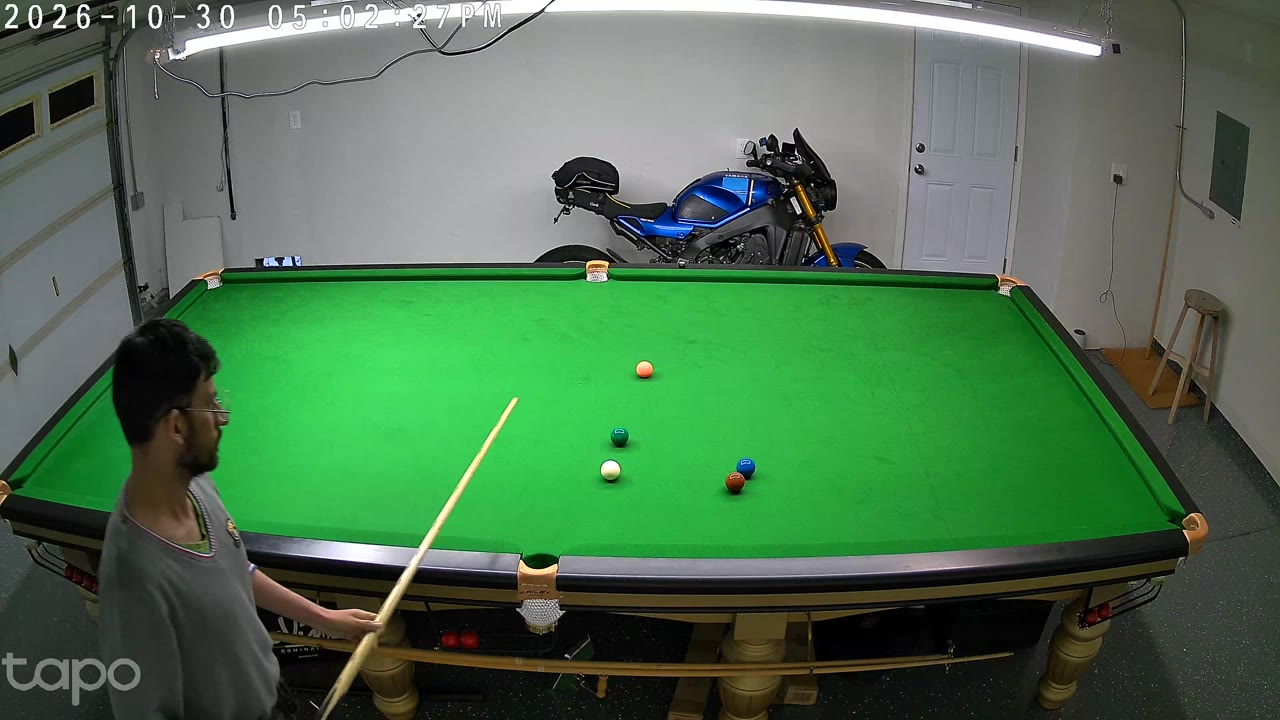blue: (737, 455, 756, 482)
brown: (726, 471, 743, 496)
green: (611, 425, 629, 449)
pink: (636, 360, 653, 381)
white: (600, 458, 620, 482)
